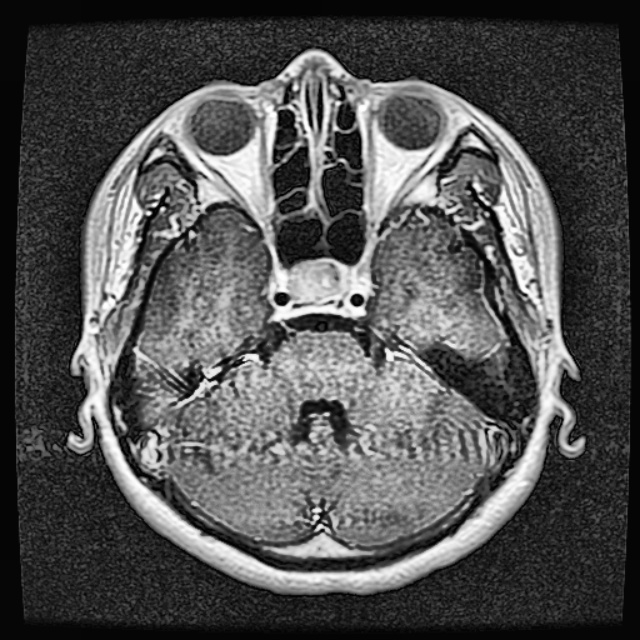Meningioma: (285, 255, 347, 302)
